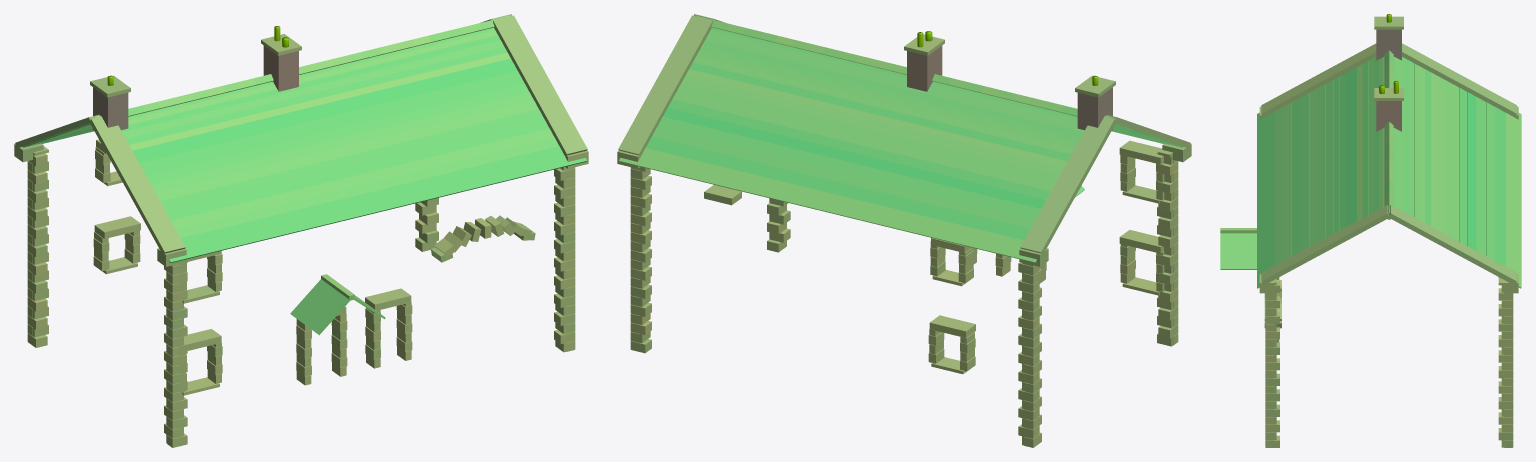
The model's file is SM_Bld_176_Stone.glb.
3 renders of one model, left to right at view 1: azimuth 30°, elevation 25°; view 2: azimuth 150°, elevation 25°; view 3: azimuth 270°, elevation 25°, orthographic. The views are drawn at different scales.
Parts seen in each view (by area): view 1: SM_Bld_176_Stone; view 2: SM_Bld_176_Stone; view 3: SM_Bld_176_Stone.
Boxes of the visible parts, x1,y1,x2,y2 form: SM_Bld_176_Stone: [14, 14, 588, 447]; SM_Bld_176_Stone: [617, 14, 1191, 447]; SM_Bld_176_Stone: [1220, 14, 1521, 447].
Bounding box in the file's own units: 14.63 × 10.59 × 10.56.
